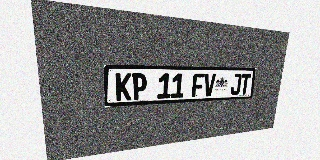1: (157, 73, 172, 99), (171, 73, 185, 98)
F: (192, 73, 205, 97)
J: (230, 74, 242, 95)
K: (115, 73, 131, 101)
P: (132, 73, 147, 100)
T: (239, 74, 251, 95)
V: (203, 73, 216, 96)
